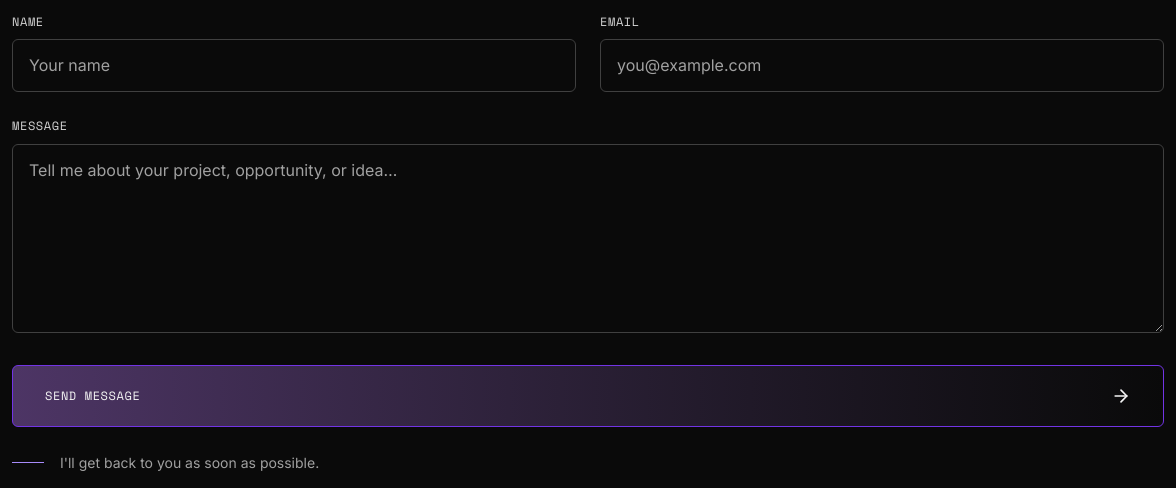
Test: ContactForm › opens the email app with the message and confirms with a fallback address
The width and height of the screenshot is (1176, 488).
Type "Ada Lovelace" into the field labelled "Name".
click(294, 66); type("Ada Lovelace")  # box [12,39,576,92]
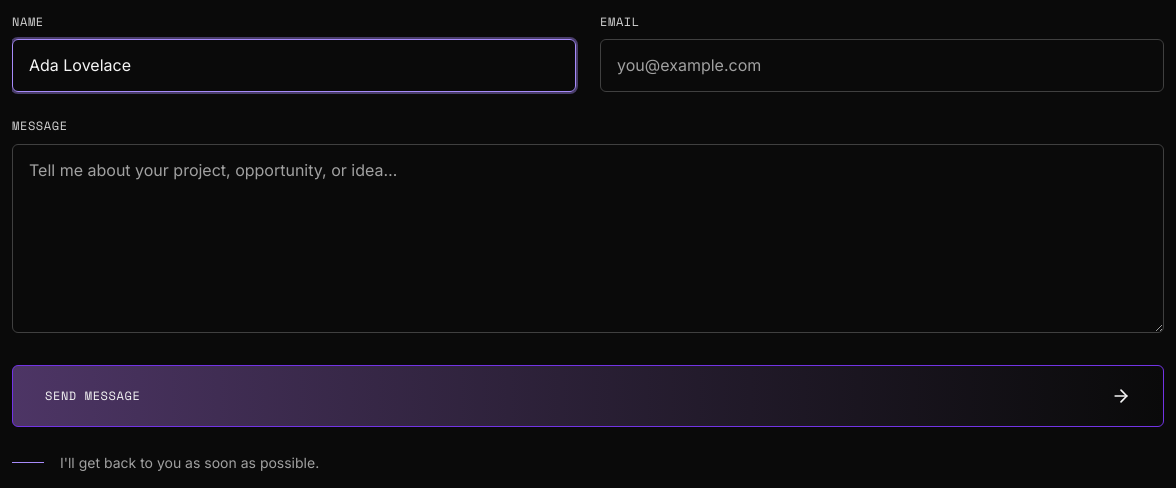
Type "ada@example.com" into the field labelled "Email".
click(882, 66); type("ada@example.com")  # box [600,39,1164,92]
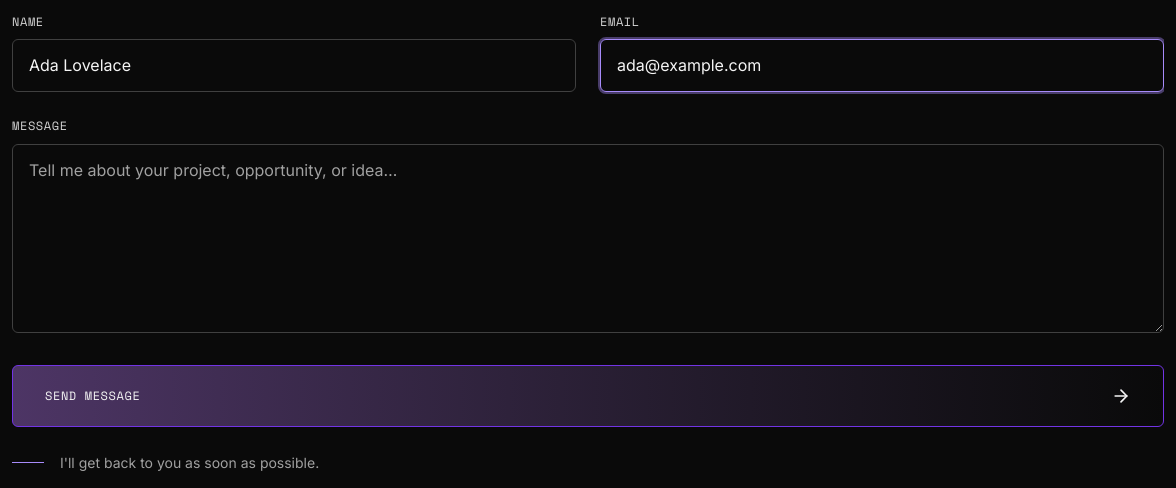
Type "Would love to collaborate on a show." into the text box labelled "Message".
click(588, 238); type("Would love to collaborate on a show.")  # box [12,144,1164,333]
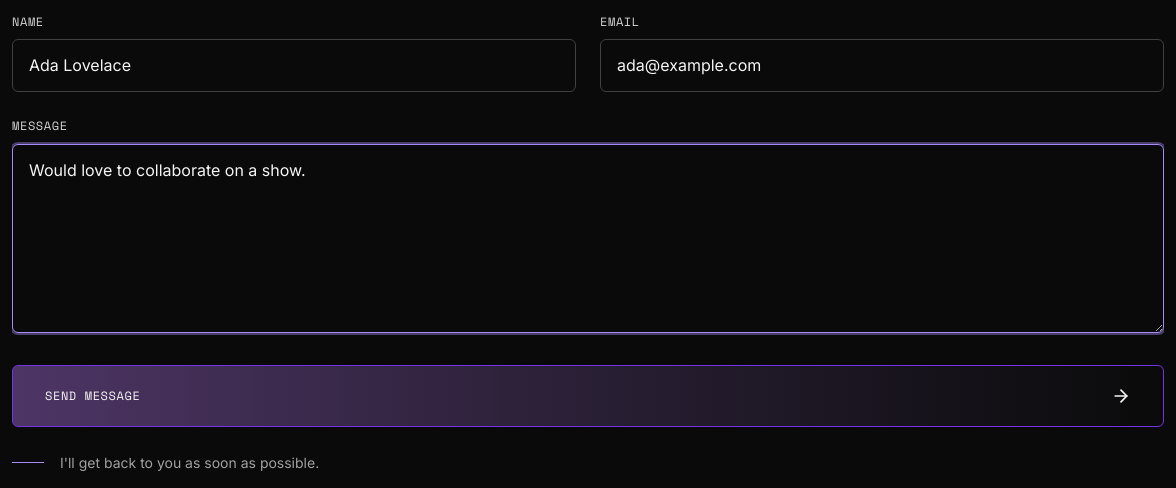
Click the button "Send message".
click(93, 396)  # box [12,365,1164,427]
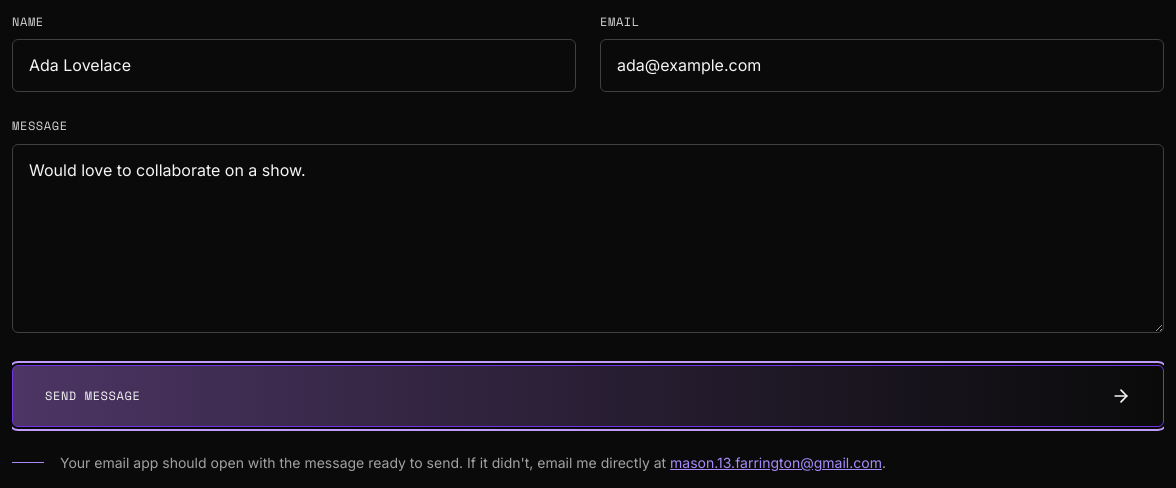
expect the link "mason.13.farrington@gmail.com" is shown: met, box [670,454,882,471]
